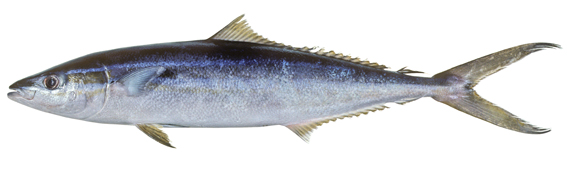fish: (8, 14, 562, 148)
